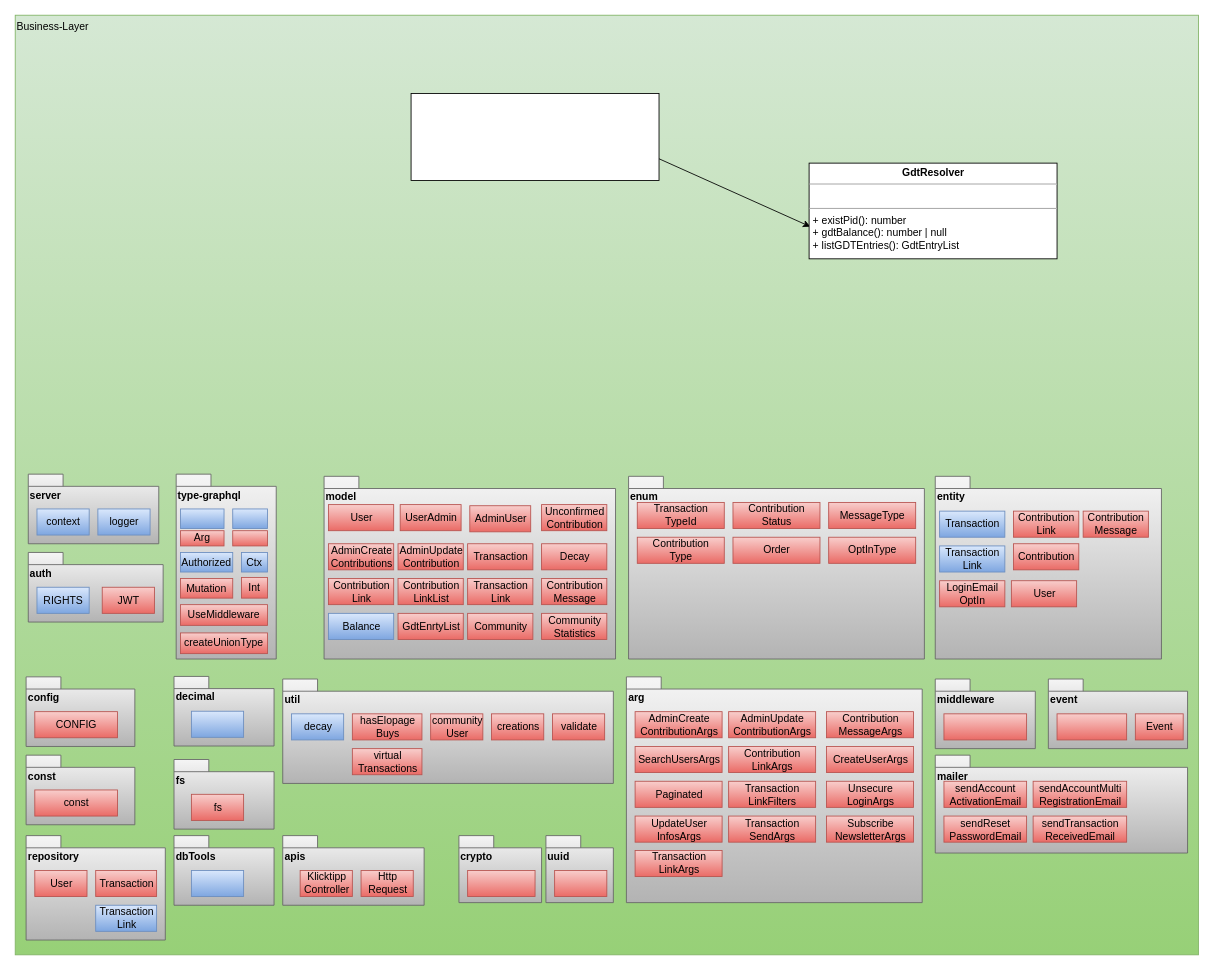
Some shapes in this 1214 by 970 pixel diagram are drawn without their labels. Each missing label, with the centre of its shape:
"Args" goes at pixel 250 538.
"BalanceResolver + balance(): Balance" goes at pixel 534 137.
"EventProtocol Emitter" goes at pixel 1091 726.
"js-light" goes at pixel 217 723.
"klicktipp Middleware" goes at pixel 985 726.
"Query" goes at pixel 250 518.
"randomBytes" goes at pixel 501 883.
"Resolver" goes at pixel 202 518.
"typeorm" goes at pixel 217 883.
"v4" goes at pixel 580 883.
